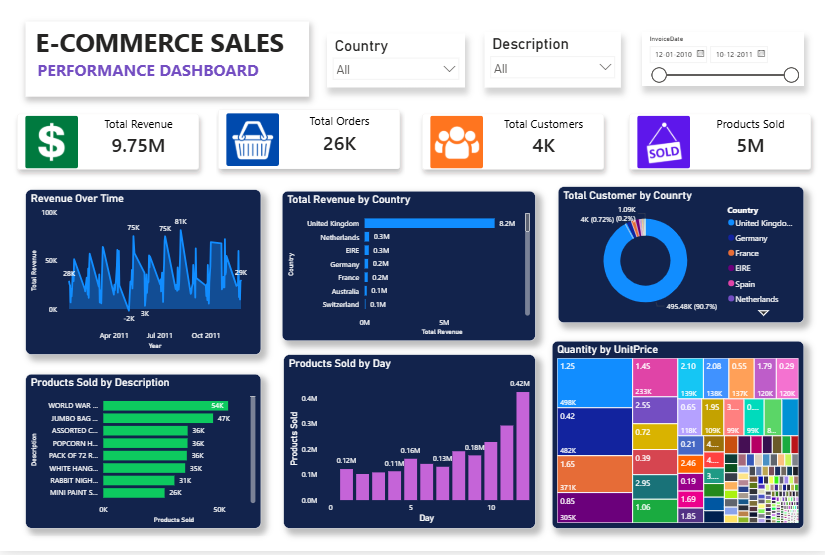

What the dashboard file says about the page in this screenshot:
{"tool":"powerbi","page":{"name":"Page 1","canvas":[1380,920],"ordinal":0},"visuals":[{"type":"cardVisual","fields":{"Data":["data.Total Orders"]},"box":[335,154.2,360,157.5],"z":0},{"type":"cardVisual","fields":{"Data":["data.Total Customers"]},"box":[675,161.7,360,150],"z":1000},{"type":"cardVisual","fields":{"Data":["data.Total Revenue"]},"box":[0,162.5,360,150],"z":2000},{"type":"cardVisual","fields":{"Data":["data.Products Sold"]},"box":[1020,161.7,360,150],"z":3000},{"type":"textbox","box":[42.5,36.7,472.5,125],"z":4000},{"type":"slicer","fields":{"Values":["data.Country"]},"box":[545,56.7,230,90],"z":5000},{"type":"slicer","fields":{"Values":["data.Description"]},"box":[807.5,54.2,227.5,92.5],"z":6000},{"type":"slicer","fields":{"Values":["data.InvoiceDate"]},"box":[1070,54.2,270,90],"z":7000},{"type":"lineChart","title":"Revenue Over Time","fields":{"Category":["data.InvoiceDate.Variation.Date Hierarchy.Year","data.InvoiceDate.Variation.Date Hierarchy.Quarter","data.InvoiceDate.Variation.Date Hierarchy.Month","data.InvoiceDate.Variation.Date Hierarchy.Day"],"Y":["data.Total Revenue"]},"box":[42.5,316.7,392.5,275],"z":8000},{"type":"clusteredBarChart","fields":{"Category":["data.Country"],"Y":["data.Total Revenue"]},"box":[470,320,422.5,250],"z":9000},{"type":"donutChart","title":"Total Customer by Counrty","fields":{"Category":["data.Country"],"Y":["CountNonNull(data.Description)","data.Total Customers"]},"box":[930,311.7,410,227.5],"z":10000},{"type":"clusteredBarChart","fields":{"Category":["data.Description"],"Y":["data.Products Sold"]},"box":[42.5,625,392.5,257.5],"z":11000},{"type":"treemap","title":"Quantity by UnitPrice","fields":{"Group":["data.UnitPrice"],"Values":["Sum(data.Quantity)"]},"box":[920,570,420,312.5],"z":12000},{"type":"columnChart","fields":{"Category":["data.InvoiceDate.Variation.Date Hierarchy.Day"],"Y":["data.Products Sold"]},"box":[472.5,592.5,420,290],"z":13000}]}

Visuals, with their boxes in screenshot pixels (x1, y1, x2, y2), scaled from the page's 1380x920 canvas onto the 825x555 screenshot:
cardVisual - data.Total Orders: [200,93,415,188]
cardVisual - data.Total Customers: [404,98,619,188]
cardVisual - data.Total Revenue: [0,98,215,189]
cardVisual - data.Products Sold: [610,98,824,188]
textbox: [25,22,308,98]
slicer - data.Country: [326,34,463,88]
slicer - data.Description: [483,33,619,88]
slicer - data.InvoiceDate: [640,33,801,87]
"Revenue Over Time" lineChart: [25,191,260,357]
clusteredBarChart - data.Country x data.Total Revenue: [281,193,534,344]
"Total Customer by Counrty" donutChart: [556,188,801,325]
clusteredBarChart - data.Description x data.Products Sold: [25,377,260,532]
"Quantity by UnitPrice" treemap: [550,344,801,532]
columnChart - data.InvoiceDate.Variation.Date Hierarchy.Day x data.Products Sold: [282,357,534,532]
